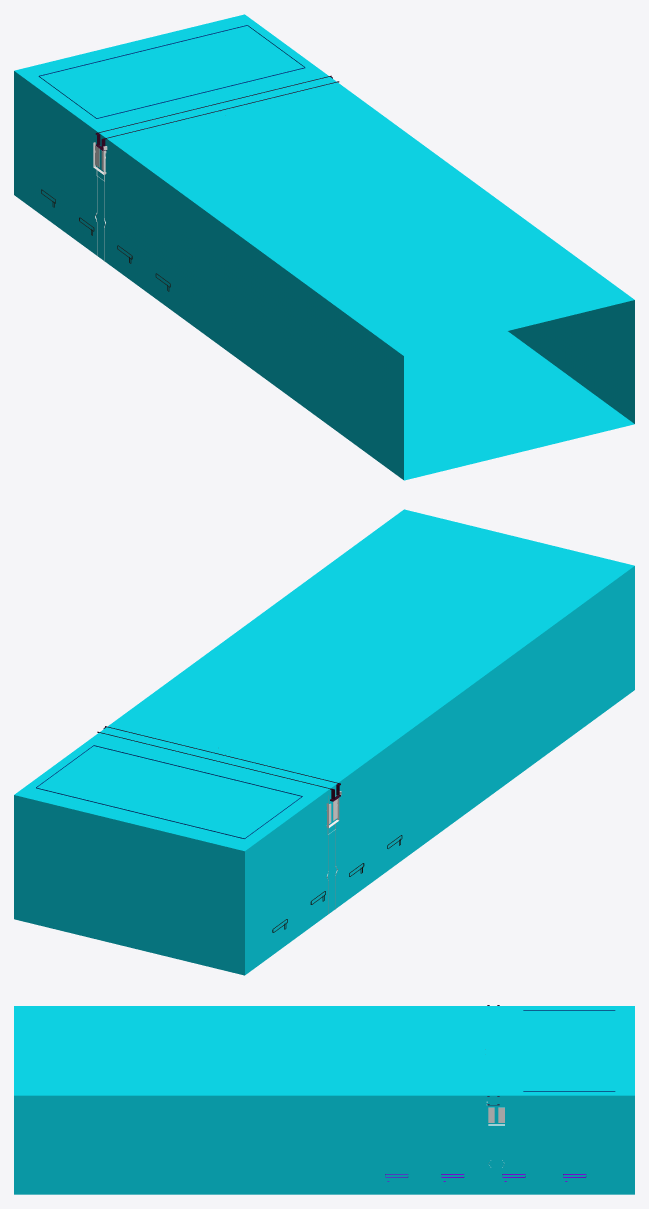
File: SM_composition_v2.FBX
3 views of the same model, one above another, from view 1: azimuth 30°, elevation 25°; view 2: azimuth 150°, elevation 25°; view 3: azimuth 270°, elevation 25° (orthographic). The views are drawn at different scales.
Parts seen in each view (by area): view 1: SM_room_composition; view 2: SM_room_composition; view 3: SM_room_composition.
Part boxes in pixels (left/top/right/bottom): SM_room_composition: left=14, top=14, right=634, bottom=480; SM_room_composition: left=14, top=509, right=634, bottom=975; SM_room_composition: left=14, top=1005, right=634, bottom=1194.
Size of the model in its own units: 828 by 2359 by 419.
